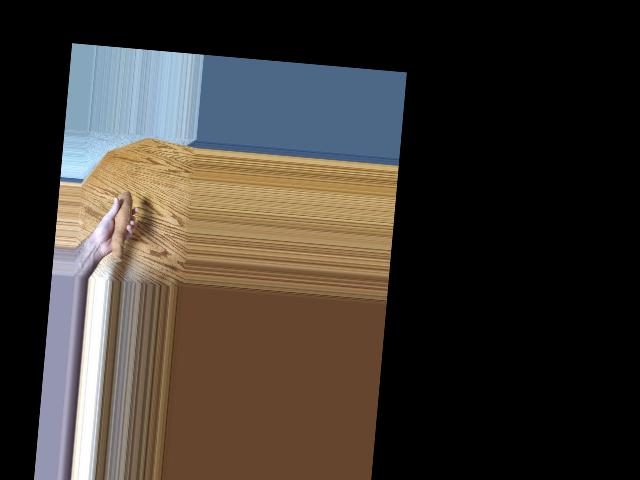sweet_potato: (101, 183, 136, 265)
